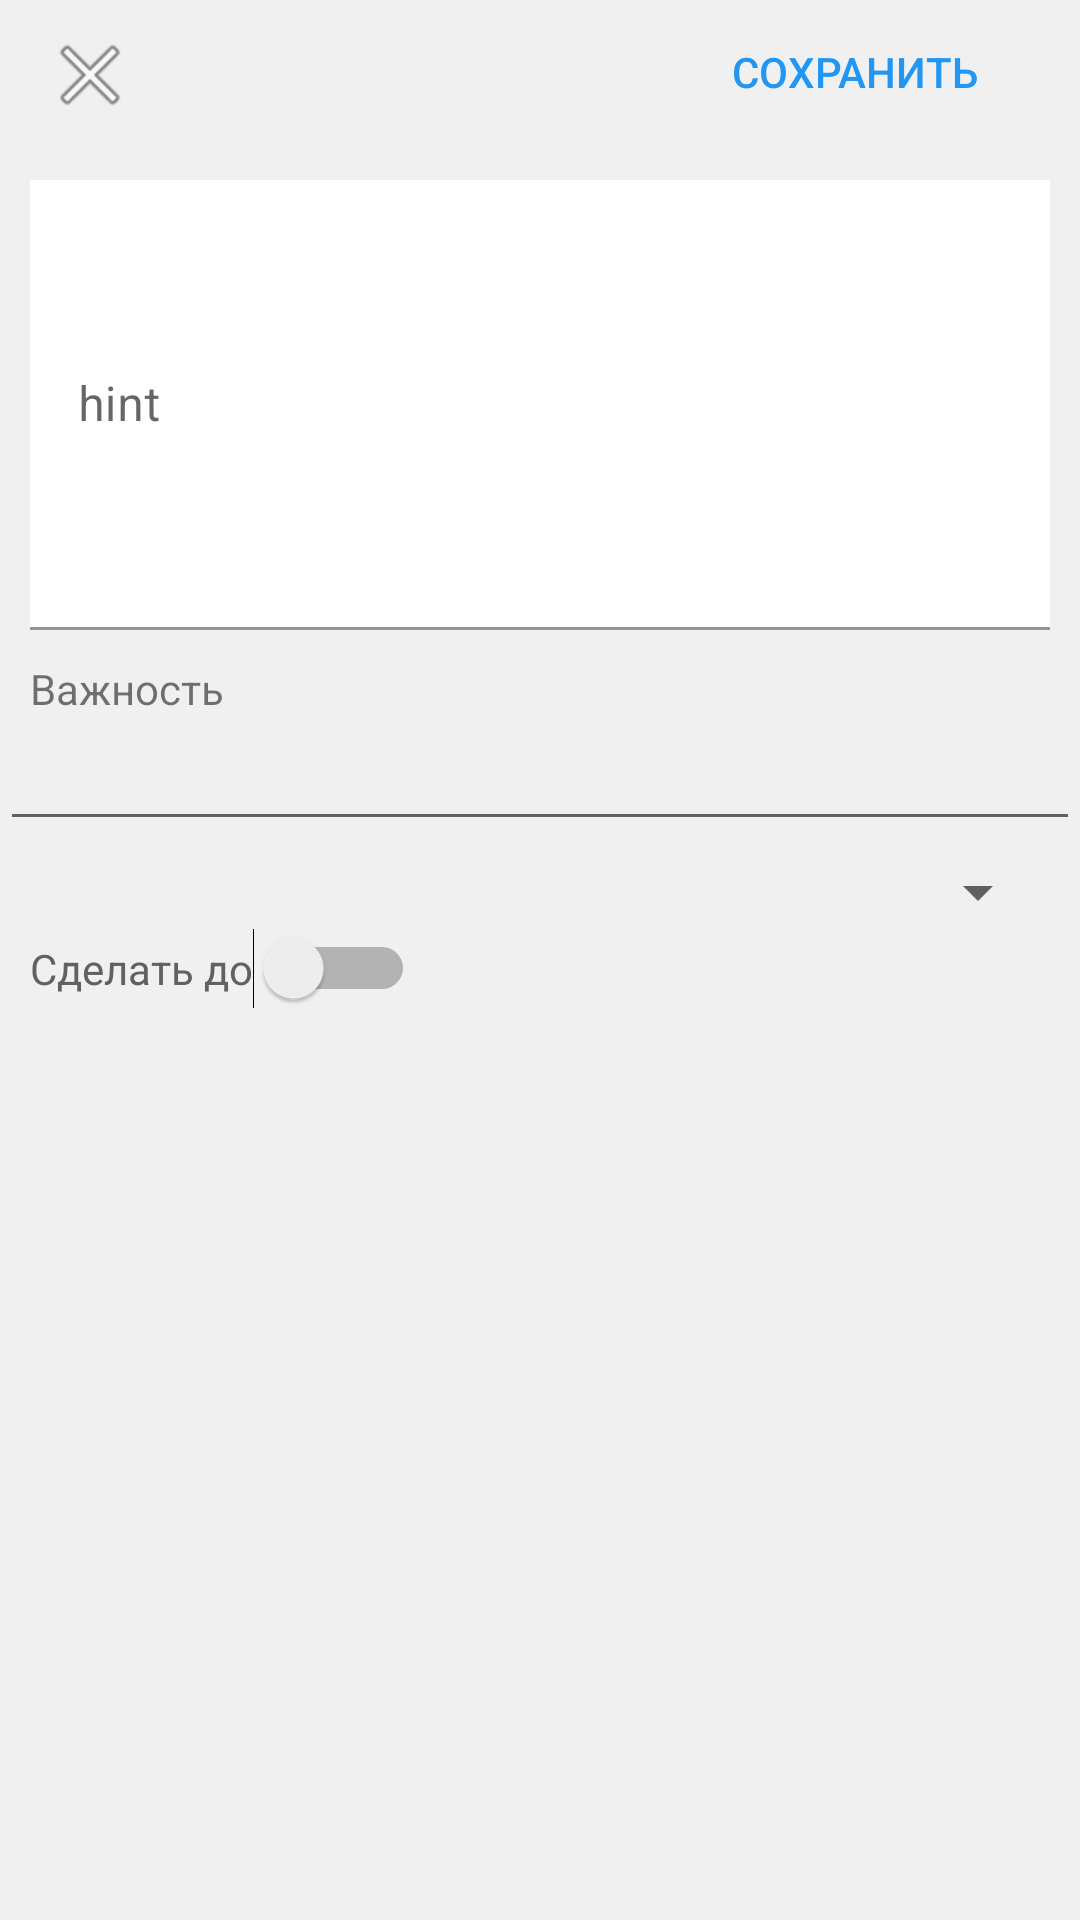

Where icons sit on this 1080×1920 app screen, as (x1, y1, x2, y2):
close clear cancel: (60, 45, 120, 105)
